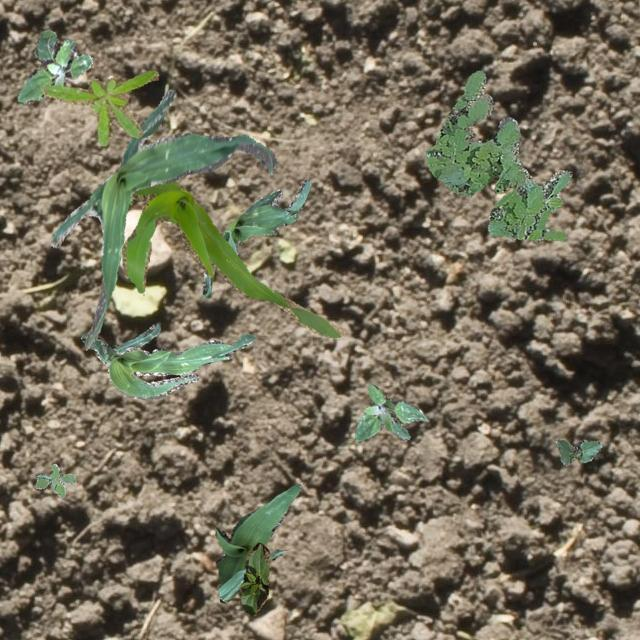crop: (49, 88, 276, 346), (120, 180, 342, 336), (80, 322, 254, 398), (201, 178, 309, 296), (214, 482, 300, 602), (238, 542, 268, 616), (554, 438, 602, 464)
weed: (426, 70, 570, 240), (41, 70, 158, 144), (15, 28, 91, 102), (354, 384, 426, 441), (34, 462, 74, 497)
